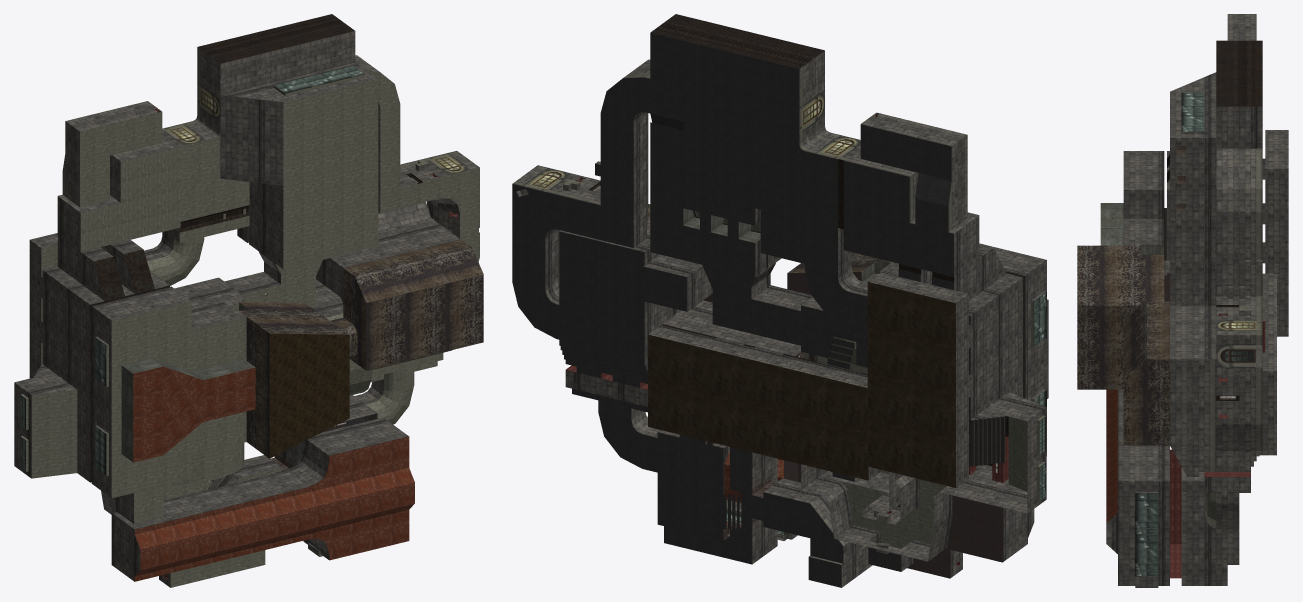
Rendered from DOM-Ember.obj.
3 renders of one model, left to right at view 1: azimuth 30°, elevation 25°; view 2: azimuth 150°, elevation 25°; view 3: azimuth 270°, elevation 25°, orthographic. The views are drawn at different scales.
Visible parts, largest first — view 1: UTtech1_Base_cbutbase_1, UTtech1_Wall_ClifBrk4, Mine_Base_Rustpl2, RainFX_Concrete, Mine_Base_Mbrkbase, UTtech1_Wall_ClifBrkTRIM, UTtech1_Wall_ClifBrk3, Metalmys_MysIron6, UTtech1_Base_panelbase, UTtech1_Window_rClifWn65, UTtech1_Wall_ClifCon2, UTtech1_Window_rClifWn1 (+1 smaller); view 2: Metalmys_MysMetl2, UTtech1_Wall_ClifBrk4, UTtech1_Misc_UTdirt1, UTtech1_Wall_ClifBrkTRIM, UTtech1_Base_cbutbase_1, UTtech1_Floor_hashlow-cont, Metalmys_MysIron6, UTtech1_Window_rClifWn65, UTtech1_Wall_ClifCon2, Mine_Trim_MIRONBR1, UTtech1_Window_rClifWn1, UTtech1_Base_panelbase (+1 smaller); view 3: UTtech1_Wall_ClifBrk4, UTtech1_Wall_ClifBrkTRIM, RainFX_Concrete, Metalmys_MysIron6, UTtech1_Window_rClifWn1, UTtech1_Window_rxClifWn35, Mine_pillar_Girderm3, Mine_Base_Rustpl2, UTtech1_Wall_ClifCon2, UTtech1_Window_rClifWn65, UTtech1_Base_cbutbase_1.
Boxes of the visible parts, x1,y1,x2,y2 form: UTtech1_Base_cbutbase_1: (20,71,479,587); UTtech1_Wall_ClifBrk4: (14,62,460,587); Mine_Base_Rustpl2: (133,366,414,581); RainFX_Concrete: (238,239,483,458); Mine_Base_Mbrkbase: (269,333,349,458); UTtech1_Wall_ClifBrkTRIM: (58,47,439,212); UTtech1_Wall_ClifBrk3: (95,31,355,433); Metalmys_MysIron6: (198,14,354,63); UTtech1_Base_panelbase: (90,173,479,482); UTtech1_Window_rClifWn65: (162,73,479,177); UTtech1_Wall_ClifCon2: (121,302,255,462); UTtech1_Window_rClifWn1: (20,65,364,551); Metalmys_MysMetl2: (512,32,1003,587); UTtech1_Wall_ClifBrk4: (516,112,1046,587); UTtech1_Misc_UTdirt1: (648,282,955,487); UTtech1_Wall_ClifBrkTRIM: (557,50,978,233); UTtech1_Base_cbutbase_1: (563,112,1045,548); UTtech1_Floor_hashlow-cont: (662,271,1024,578); Metalmys_MysIron6: (651,14,824,68); UTtech1_Window_rClifWn65: (512,79,860,194); UTtech1_Wall_ClifCon2: (683,208,1048,398); Mine_Trim_MIRONBR1: (723,337,1005,540); UTtech1_Window_rClifWn1: (791,292,1046,533); UTtech1_Base_panelbase: (589,159,1008,465); UTtech1_Wall_ClifBrk4: (1106,72,1288,587); UTtech1_Wall_ClifBrkTRIM: (1170,14,1262,471); RainFX_Concrete: (1077,245,1169,445); Metalmys_MysIron6: (1216,40,1262,106); UTtech1_Window_rClifWn1: (1135,92,1204,576); UTtech1_Window_rxClifWn35: (1216,335,1262,377); Mine_pillar_Girderm3: (1170,313,1265,578); Mine_Base_Rustpl2: (1106,389,1117,522); UTtech1_Wall_ClifCon2: (1100,203,1164,254); UTtech1_Window_rClifWn65: (1216,310,1262,335); UTtech1_Base_cbutbase_1: (1204,305,1250,528).
Bounding box in the file's own units: 55.78 × 55.78 × 22.25.
